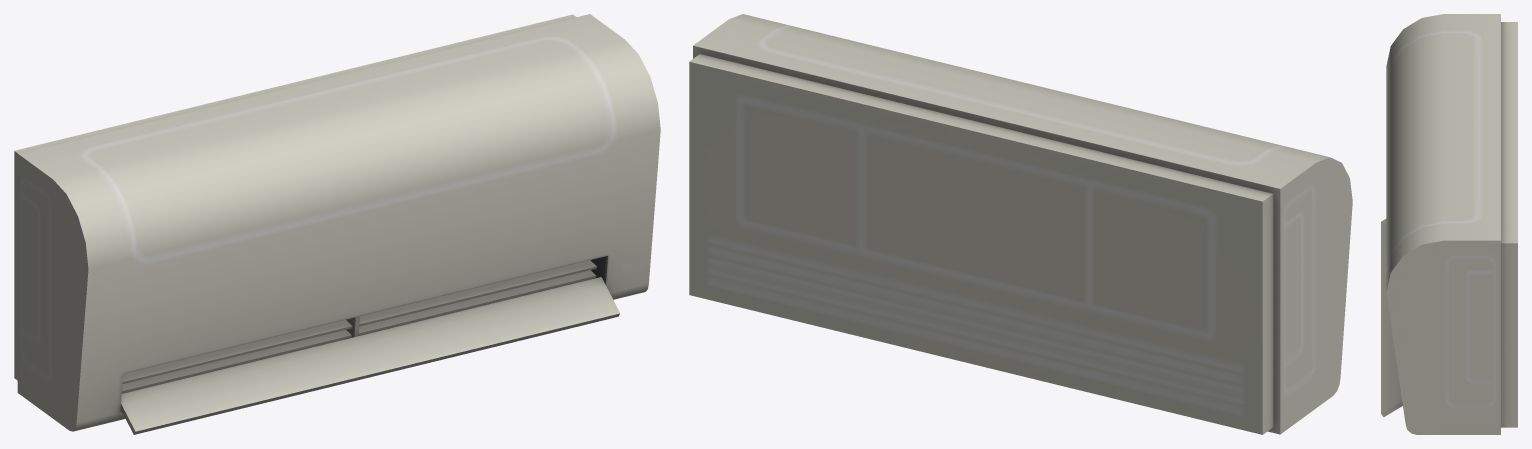
Rendered from sb_obj_ModernCity045_aircon.fbx.
3 renders of one model, left to right at view 1: azimuth 30°, elevation 25°; view 2: azimuth 150°, elevation 25°; view 3: azimuth 270°, elevation 25°, orthographic. The views are drawn at different scales.
Visible parts, largest first — view 1: sb_obj_ModernCity045_aircon; view 2: sb_obj_ModernCity045_aircon; view 3: sb_obj_ModernCity045_aircon.
Boxes of the visible parts, x1=… form: sb_obj_ModernCity045_aircon: x1=14, y1=14, x2=660, y2=434; sb_obj_ModernCity045_aircon: x1=689, y1=14, x2=1352, y2=434; sb_obj_ModernCity045_aircon: x1=1381, y1=14, x2=1517, y2=434.
Bounding box in the file's own units: 0.7084 × 0.283 × 0.1808.
1 material, 1 textured.
